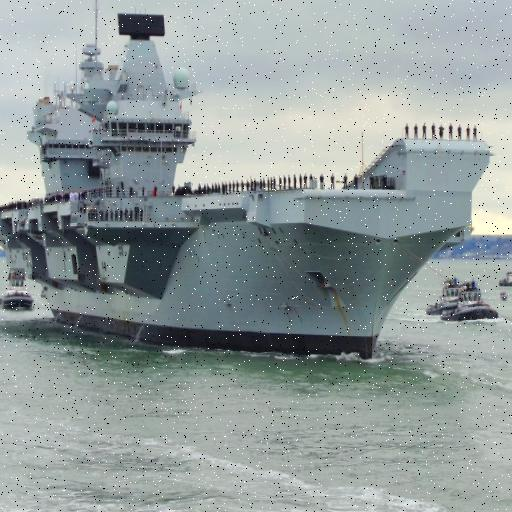Portanaves: (1, 1, 494, 364)
